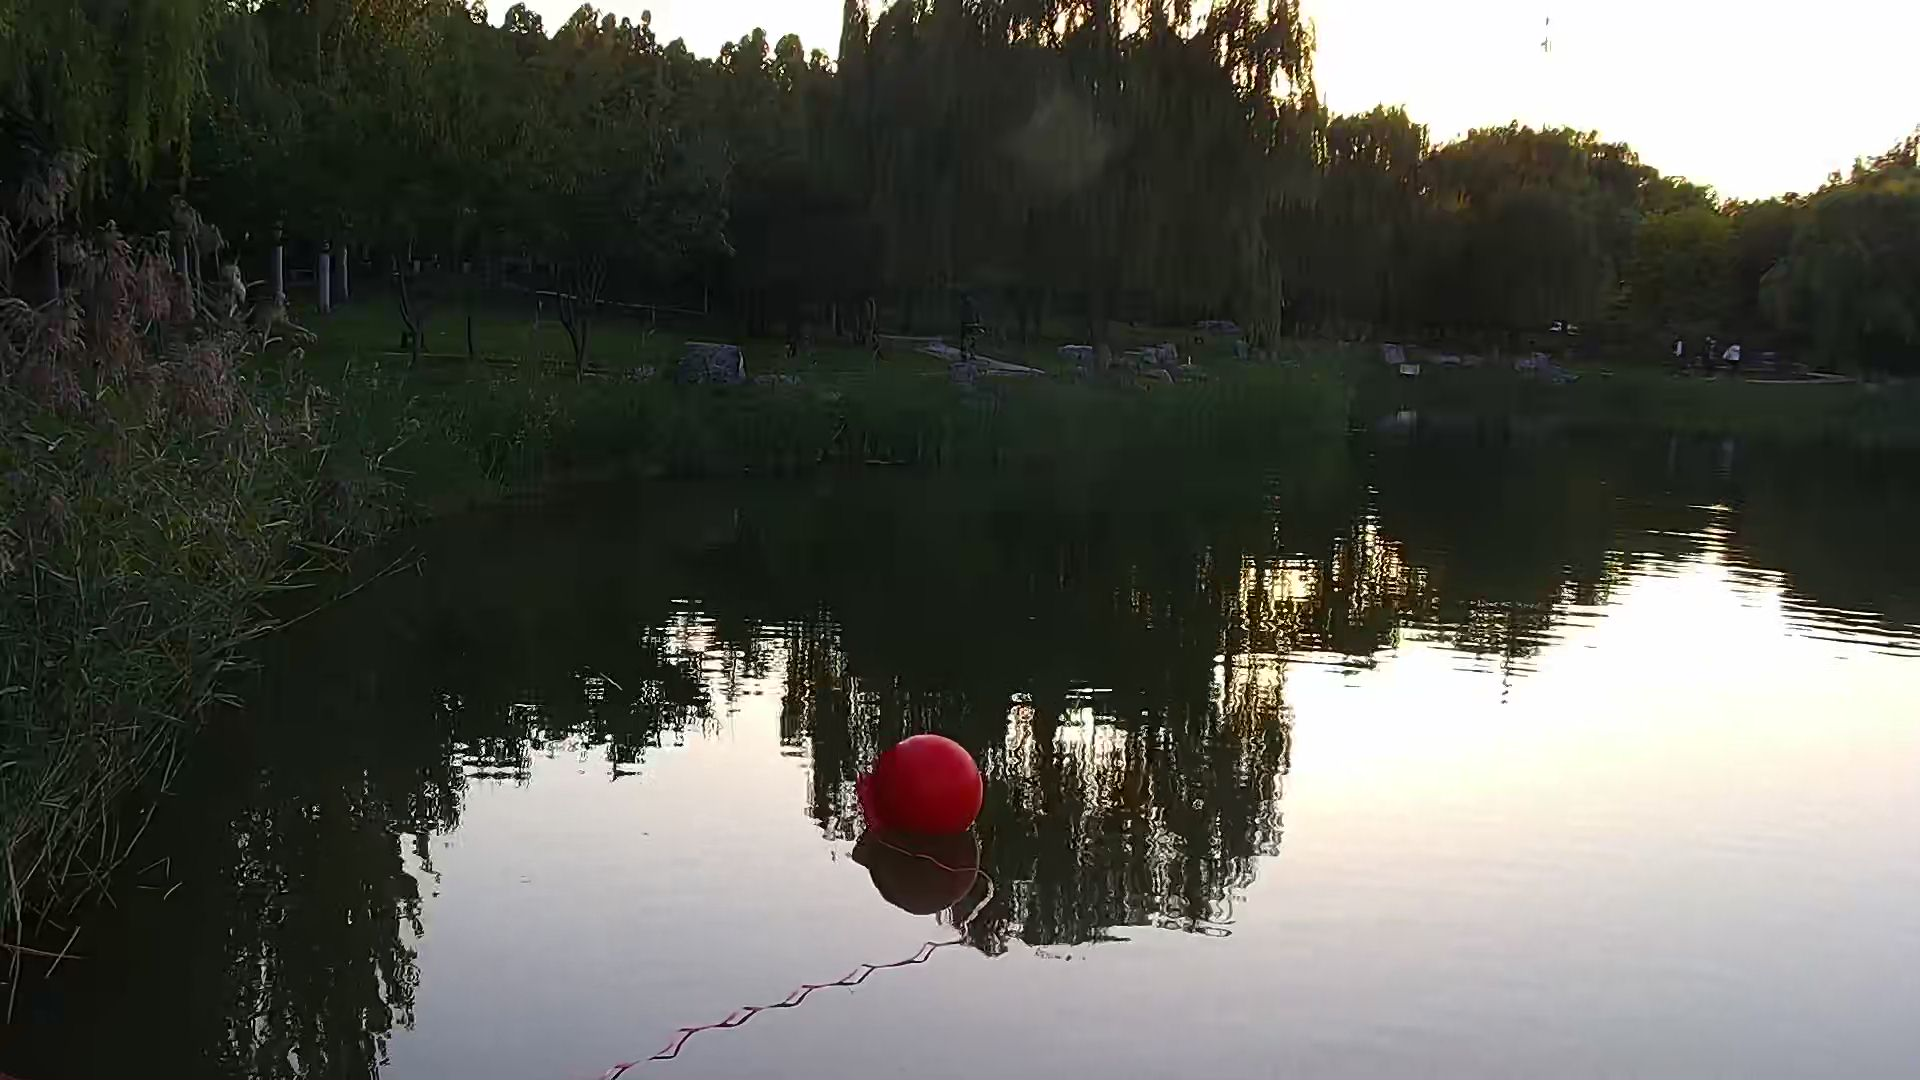rubbish: (866, 737, 986, 843)
